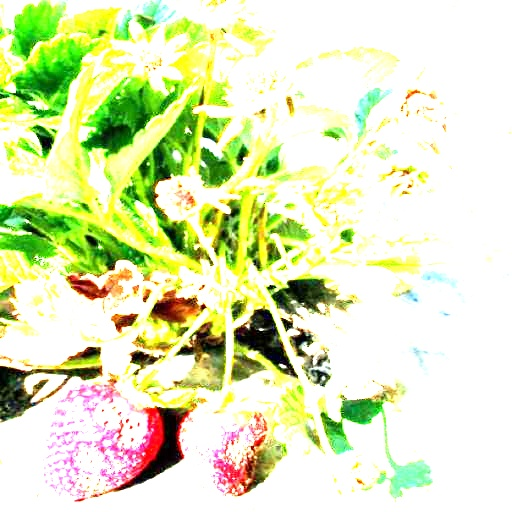Anthracnose Fruit Rot: (71, 397, 149, 490), (193, 424, 267, 497)
